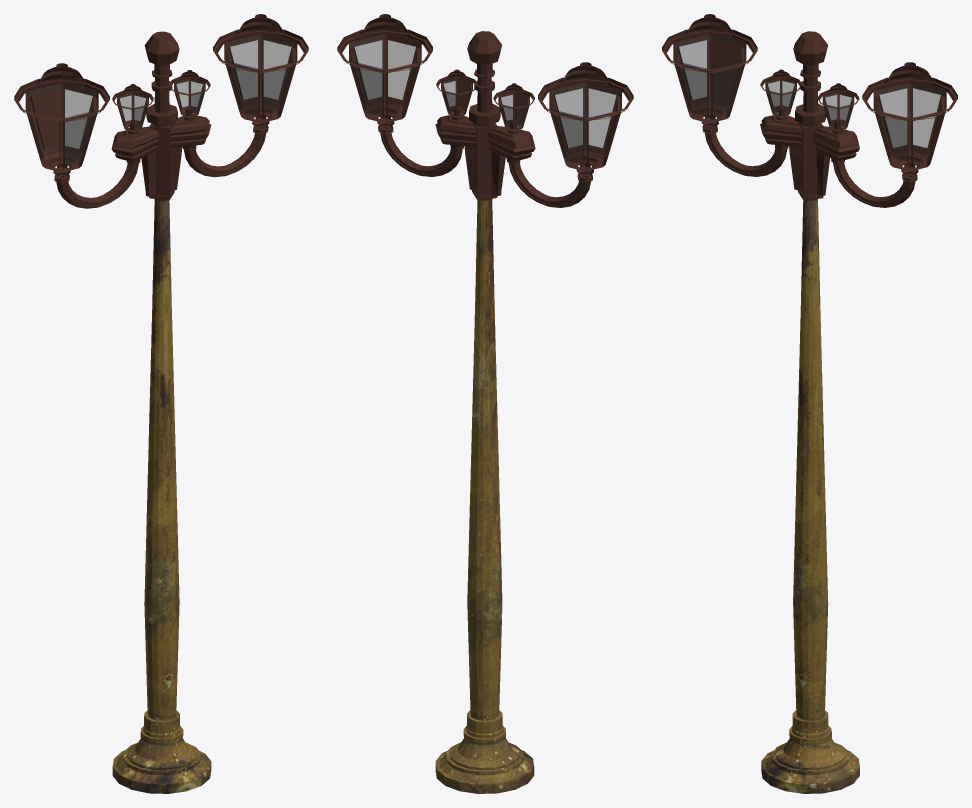
3 renders of one model, left to right at view 1: azimuth 30°, elevation 25°; view 2: azimuth 150°, elevation 25°; view 3: azimuth 330°, elevation 25°, orthographic.
Parts seen in each view (by area): view 1: Circle.001_lampu, Circle.002_lampu.002, Circle.003_lampu.003; view 2: Circle.001_lampu, Circle.002_lampu.002, Circle.003_lampu.003; view 3: Circle.001_lampu, Circle.002_lampu.002, Circle.003_lampu.003.
Part boxes in pixels (left/top/right/bottom): Circle.001_lampu: left=14, top=14, right=308, bottom=208; Circle.002_lampu.002: left=112, top=199, right=211, bottom=793; Circle.003_lampu.003: left=26, top=35, right=296, bottom=165; Circle.001_lampu: left=337, top=14, right=633, bottom=207; Circle.002_lampu.002: left=435, top=199, right=534, bottom=793; Circle.003_lampu.003: left=350, top=35, right=620, bottom=164; Circle.001_lampu: left=662, top=14, right=957, bottom=207; Circle.002_lampu.002: left=761, top=199, right=859, bottom=793; Circle.003_lampu.003: left=674, top=35, right=945, bottom=160.
Bounding box in the file's own units: 1.63 × 4.08 × 0.4987.
